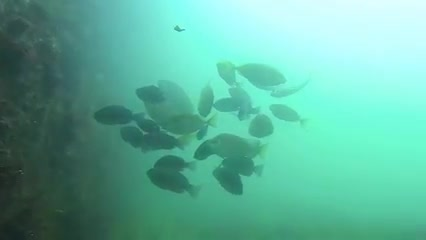smallfish: (227, 54, 292, 88)
